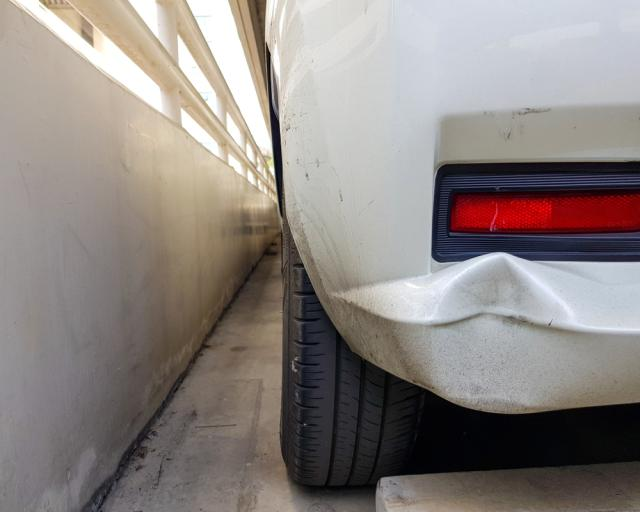dent: (429, 255, 572, 411)
